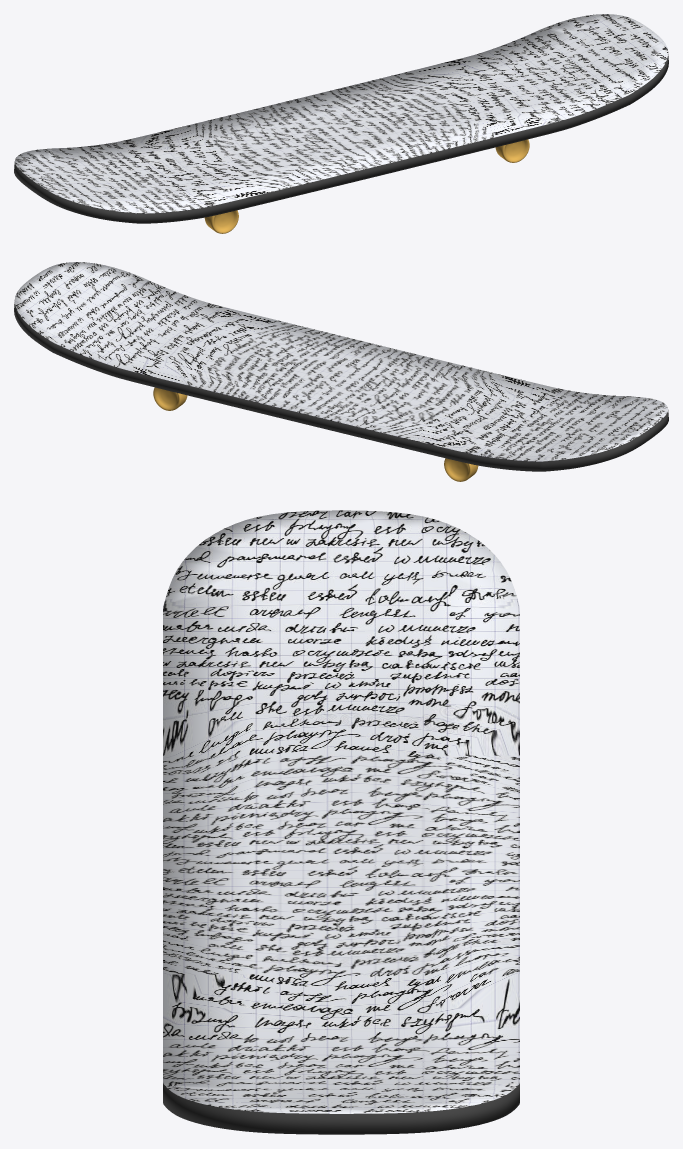
3 renders of one model, top to bottom at view 1: azimuth 30°, elevation 25°; view 2: azimuth 150°, elevation 25°; view 3: azimuth 270°, elevation 25°, orthographic. The views are drawn at different scales.
Parts seen in each view (by area): view 1: Skaty; view 2: Skaty; view 3: Skaty.
Part boxes in pixels (left/top/right/bottom): Skaty: left=14, top=14, right=668, bottom=233; Skaty: left=14, top=262, right=668, bottom=481; Skaty: left=163, top=510, right=519, bottom=1134.
Bounding box in the file's own units: 0.8552 × 0.0943 × 0.2131.
4 materials, 1 textured.
